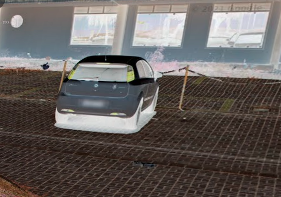car: (52, 47, 166, 131)
